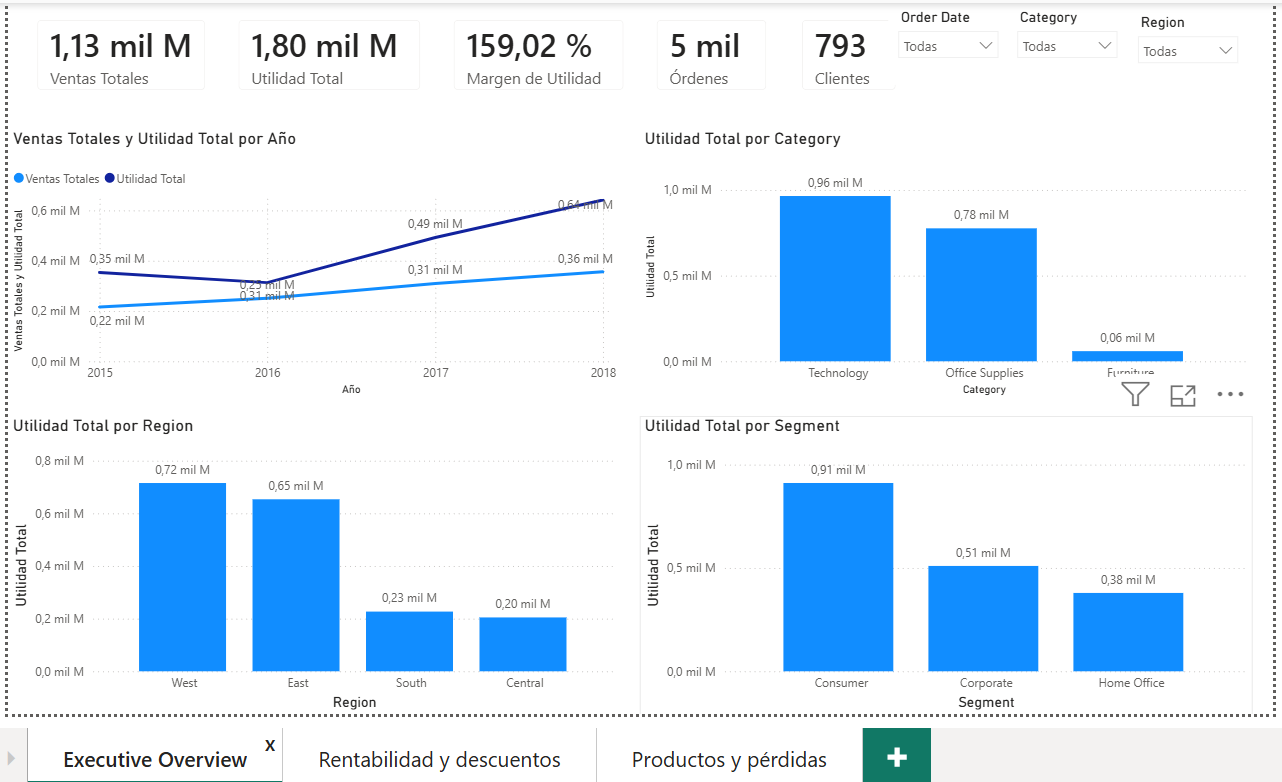

The page's visual inventory and layout, read from the dashboard file:
{"tool":"powerbi","page":{"name":"Executive Overview","canvas":[1280,720],"ordinal":0},"visuals":[{"type":"lineChart","fields":{"Category":["ventas_limpias.Order Date.Variación.Jerarquía de fechas.Año","ventas_limpias.Order Date.Variación.Jerarquía de fechas.Trimestre","ventas_limpias.Order Date.Variación.Jerarquía de fechas.Mes","ventas_limpias.Order Date.Variación.Jerarquía de fechas.Día"],"Y":["ventas_limpias.Ventas Totales","ventas_limpias.Utilidad Total"]},"box":[0,127.3,620.2,274.7],"z":0},{"type":"clusteredColumnChart","fields":{"Category":["ventas_limpias.Category"],"Y":["ventas_limpias.Utilidad Total"]},"box":[640.4,127.3,620.2,274.7],"z":1000},{"type":"clusteredColumnChart","fields":{"Category":["ventas_limpias.Region"],"Y":["ventas_limpias.Utilidad Total"]},"box":[0,418,620,302],"z":2000},{"type":"clusteredColumnChart","fields":{"Category":["ventas_limpias.Segment"],"Y":["ventas_limpias.Utilidad Total"]},"box":[640.4,418.2,620,302],"z":3000},{"type":"cardVisual","fields":{"Data":["ventas_limpias.Ventas Totales"]},"box":[12.1,0,204,105],"z":4000},{"type":"cardVisual","fields":{"Data":["ventas_limpias.Utilidad Total"]},"box":[216.1,0,218.2,105],"z":5000},{"type":"cardVisual","fields":{"Data":["ventas_limpias.Margen de Utilidad"]},"box":[434.3,0,206,105],"z":6000},{"type":"cardVisual","fields":{"Data":["ventas_limpias.Órdenes"]},"box":[640.4,0,145.4,105],"z":7000},{"type":"cardVisual","fields":{"Data":["ventas_limpias.Clientes"]},"box":[785.8,0,129.3,105],"z":8000},{"type":"slicer","fields":{"Values":["ventas_limpias.Order Date"]},"box":[890.9,0,121.2,82.8],"z":8001},{"type":"slicer","fields":{"Values":["ventas_limpias.Category"]},"box":[1012.1,0,121.2,82.8],"z":8002},{"type":"slicer","fields":{"Values":["ventas_limpias.Region"]},"box":[1133.3,6.1,121.2,72.7],"z":8003}]}

Visuals, with their boxes on the page's 1280x720 design canvas (x1, y1, x2, y2). These are canvas units, not pixel positions in the 1282x782 screenshot, which may show the page scaled, cropped or inside an application window:
lineChart - ventas_limpias.Order Date.Variación.Jerarquía de fechas.Año x ventas_limpias.Order Date.Variación.Jerarquía de fechas.Trimestre: detection(0, 127, 620, 402)
clusteredColumnChart - ventas_limpias.Category x ventas_limpias.Utilidad Total: detection(640, 127, 1261, 402)
clusteredColumnChart - ventas_limpias.Region x ventas_limpias.Utilidad Total: detection(0, 418, 620, 720)
clusteredColumnChart - ventas_limpias.Segment x ventas_limpias.Utilidad Total: detection(640, 418, 1260, 720)
cardVisual - ventas_limpias.Ventas Totales: detection(12, 0, 216, 105)
cardVisual - ventas_limpias.Utilidad Total: detection(216, 0, 434, 105)
cardVisual - ventas_limpias.Margen de Utilidad: detection(434, 0, 640, 105)
cardVisual - ventas_limpias.Órdenes: detection(640, 0, 786, 105)
cardVisual - ventas_limpias.Clientes: detection(786, 0, 915, 105)
slicer - ventas_limpias.Order Date: detection(891, 0, 1012, 83)
slicer - ventas_limpias.Category: detection(1012, 0, 1133, 83)
slicer - ventas_limpias.Region: detection(1133, 6, 1254, 79)
